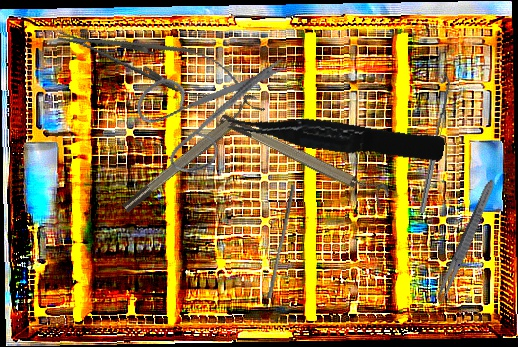Dressing Forceps: (432, 176, 499, 309)
Fixation Ring: (115, 90, 266, 216), (217, 103, 393, 210)
Iris Scissors: (120, 14, 292, 194)
Needle Holder: (52, 12, 252, 110)
Pusher: (266, 183, 296, 300)
Spatula Surgical: (413, 73, 454, 214)
Tissue Forceps: (226, 99, 446, 172)
